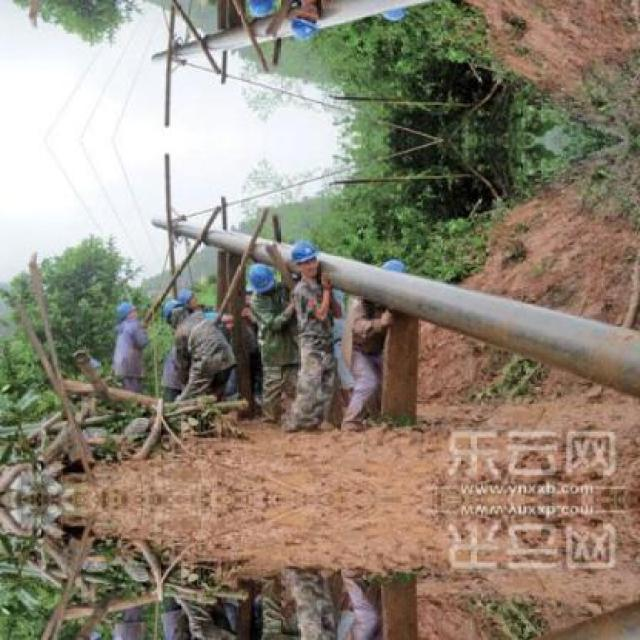helmet: (244, 260, 282, 306), (289, 234, 323, 276), (289, 4, 323, 45), (245, 0, 283, 22), (113, 298, 139, 326), (160, 300, 188, 326), (178, 288, 200, 309)
